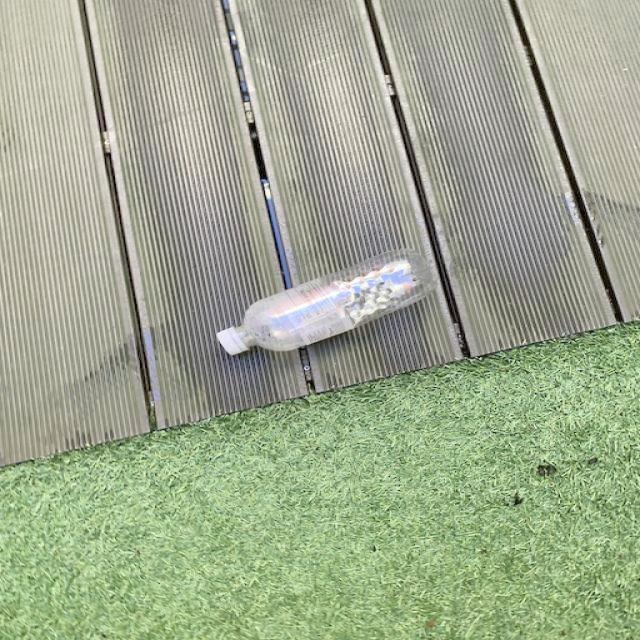bottle: (216, 249, 438, 356)
